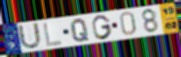0: (118, 11, 138, 37)
8: (141, 8, 161, 34)
G: (91, 14, 114, 40)
L: (42, 21, 64, 48)
Q: (70, 17, 90, 43)
U: (17, 21, 44, 51)
